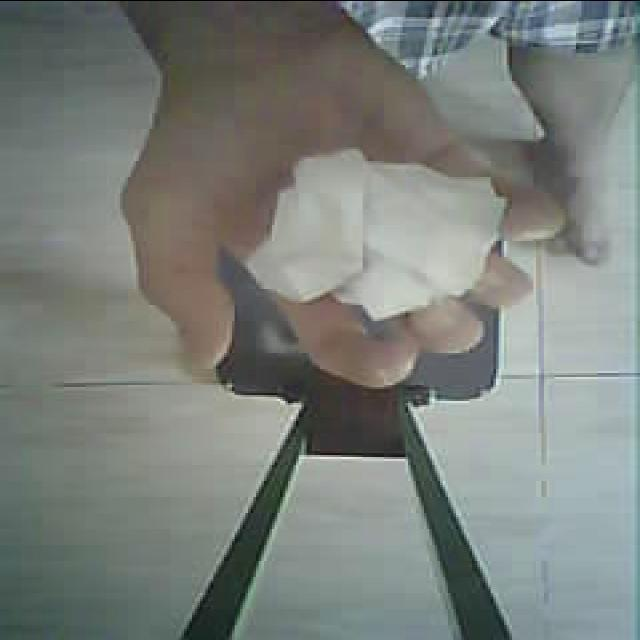Paper: (254, 132, 529, 328)
